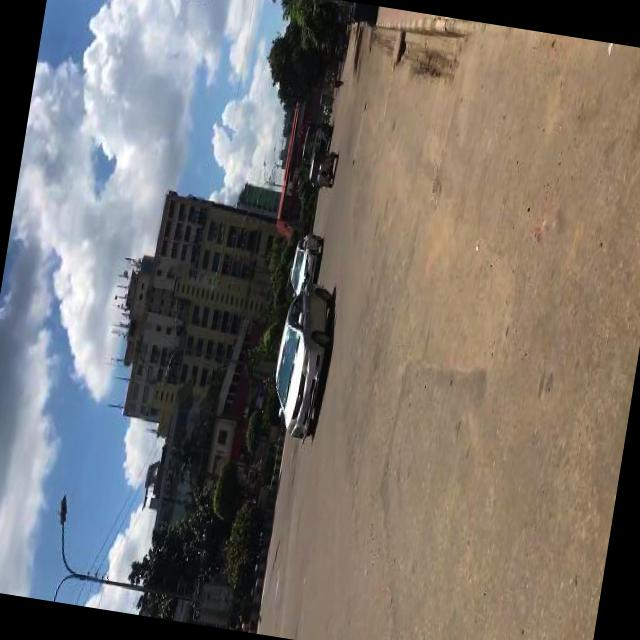car: (262, 278, 340, 448), (286, 232, 326, 300)
motorcycle: (306, 148, 338, 192)
truck: (298, 118, 332, 172)
